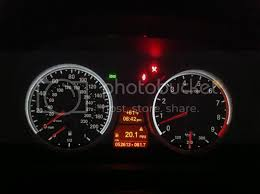Digital_Meter: (114, 129, 149, 150)
